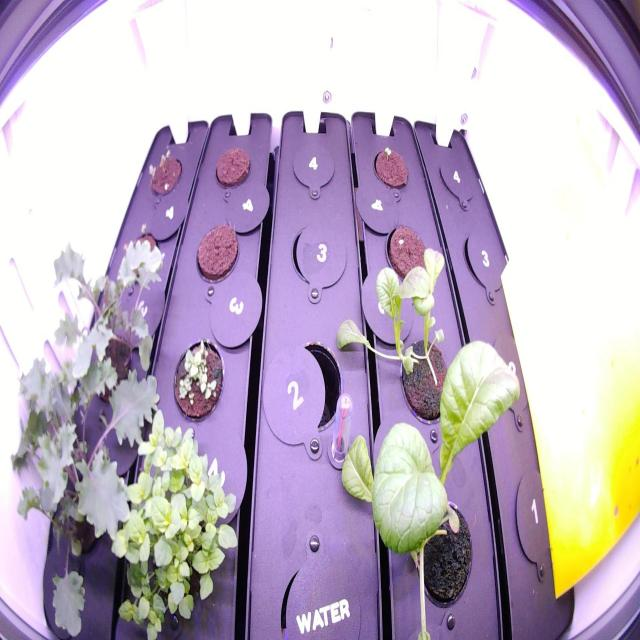empty_pod: (272, 333, 346, 444), (511, 464, 570, 574), (483, 329, 541, 428), (284, 215, 350, 294), (456, 223, 509, 301), (287, 136, 339, 197), (433, 148, 479, 212)
germination: (168, 333, 230, 426), (378, 213, 444, 291), (140, 137, 185, 205), (369, 140, 413, 199)
pod: (188, 215, 246, 290), (210, 137, 256, 194)
